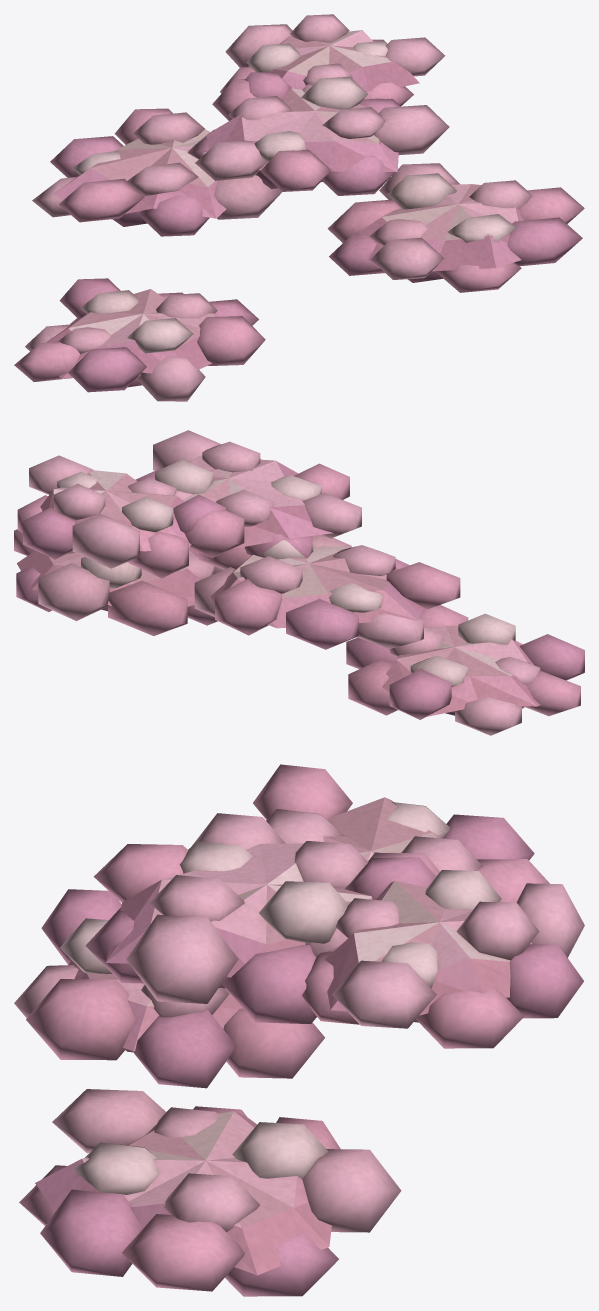
Rendered from Grand_Dojo_Arrival_Hero_Blossom_Canopy.glb.
The picture shows the model from 3 angles, top to bottom: view 1: azimuth 30°, elevation 25°; view 2: azimuth 150°, elevation 25°; view 3: azimuth 270°, elevation 25°; orthographic projection. The views are drawn at different scales.
Parts seen in each view (by area): view 1: Grand Dojo Arrival Hero Blossom Canopy; view 2: Grand Dojo Arrival Hero Blossom Canopy; view 3: Grand Dojo Arrival Hero Blossom Canopy.
Part boxes in pixels (x1,y1,x2,y2): Grand Dojo Arrival Hero Blossom Canopy: (14, 14, 584, 401); Grand Dojo Arrival Hero Blossom Canopy: (14, 430, 584, 735); Grand Dojo Arrival Hero Blossom Canopy: (14, 764, 584, 1296).
Size of the model in its own units: 12.37 by 4.58 by 6.79.
1 material, 1 textured.
